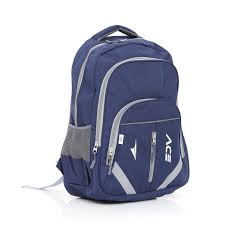bag: (64, 25, 192, 202)
